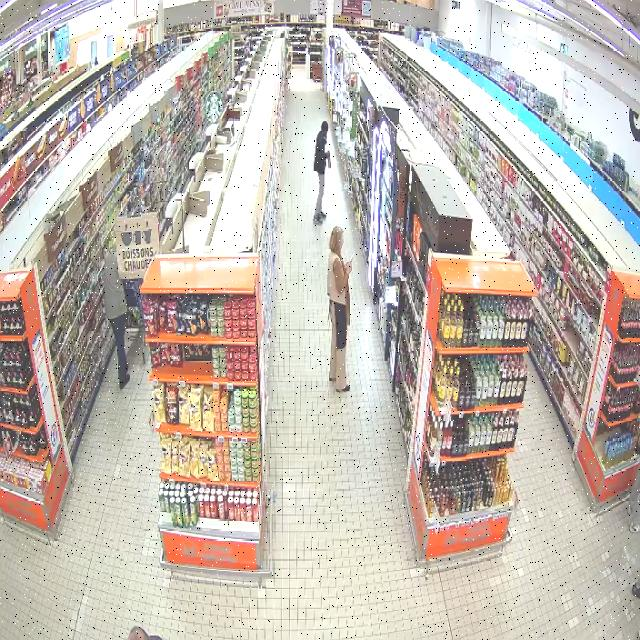article: (328, 157, 331, 168)
hands: (345, 261, 353, 275), (327, 153, 330, 158)
person: (326, 226, 352, 391), (103, 247, 129, 389), (313, 121, 330, 223)
